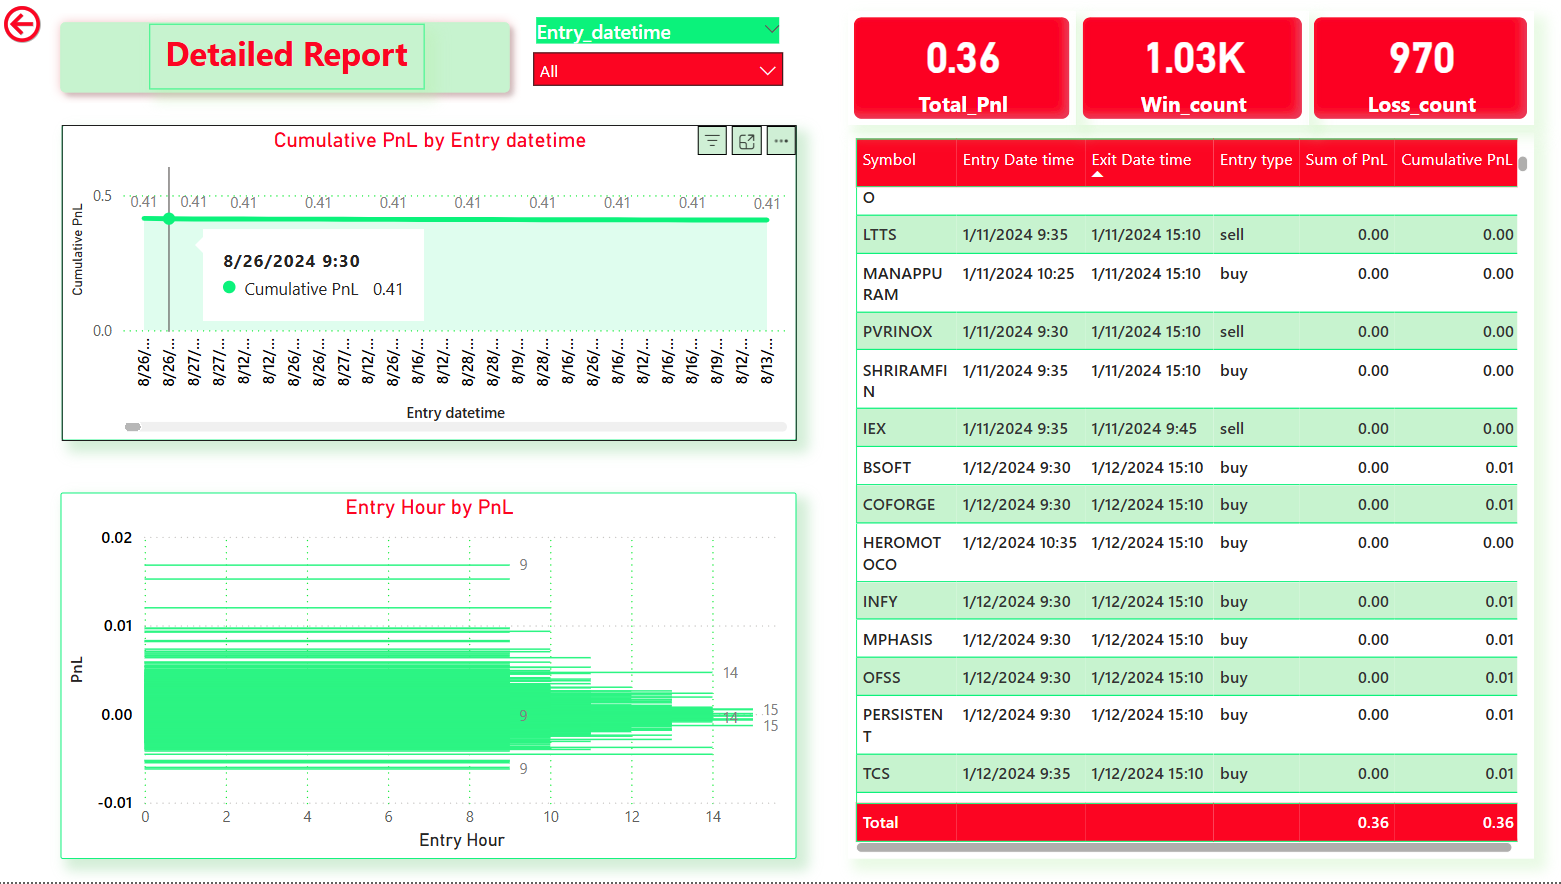

The page's visual inventory and layout, read from the dashboard file:
{"tool":"powerbi","page":{"name":"detailed_report","canvas":[1280,720],"ordinal":1},"visuals":[{"type":"actionButton","box":[0,0,100,40],"z":0},{"type":"actionButton","box":[0,0,41.9,39.5],"z":1000},{"type":"lineChart","fields":{"Y":["strategy_2.cumulative_pnl"],"Category":["Total_trade.entry_datetime"]},"box":[51.8,102.4,600,257.6],"z":2000},{"type":"tableEx","fields":{"Values":["Total_trade.symbol","Total_trade.entry_datetime","Total_trade.exit_datetime","Total_trade.entry_type","Sum(Total_trade.pnl)","strategy_2.cumulative_pnl"]},"box":[694.2,108.1,570.9,593],"z":3000},{"type":"slicer","fields":{"Values":["Total_trade.entry_datetime"]},"box":[426.7,9.3,224.4,75.6],"z":4000},{"type":"cardVisual","fields":{"Data":["strategy_2.Total_Pnl"]},"box":[694.2,9.3,186,93],"z":5000},{"type":"barChart","fields":{"Y":["strategy_2.entry_hour"],"Category":["Total_trade.pnl"]},"box":[50.6,402.4,601.2,298.8],"z":6000},{"type":"shape","box":[41.9,9.3,384.9,75.6],"z":7000},{"type":"textbox","box":[123.3,19.8,224.4,53.5],"z":8000},{"type":"cardVisual","fields":{"Data":["strategy_1.Win_count"]},"box":[880.2,9.3,189.5,93],"z":9000},{"type":"cardVisual","fields":{"Data":["strategy_2.Loss_count"]},"box":[1069.8,9.3,184.9,93],"z":10000}]}

Visuals, with their boxes in screenshot pixels (x1, y1, x2, y2), scaled from the page's 1280x720 canvas onto the 1561x884 screenshot:
actionButton: rect(0, 0, 122, 49)
actionButton: rect(0, 0, 51, 48)
lineChart - strategy_2.cumulative_pnl x Total_trade.entry_datetime: rect(63, 126, 795, 442)
tableEx - Total_trade.symbol x Total_trade.entry_datetime: rect(847, 133, 1543, 861)
slicer - Total_trade.entry_datetime: rect(520, 11, 794, 104)
cardVisual - strategy_2.Total_Pnl: rect(847, 11, 1073, 126)
barChart - strategy_2.entry_hour x Total_trade.pnl: rect(62, 494, 795, 861)
shape: rect(51, 11, 520, 104)
textbox: rect(150, 24, 424, 90)
cardVisual - strategy_1.Win_count: rect(1073, 11, 1305, 126)
cardVisual - strategy_2.Loss_count: rect(1305, 11, 1530, 126)
